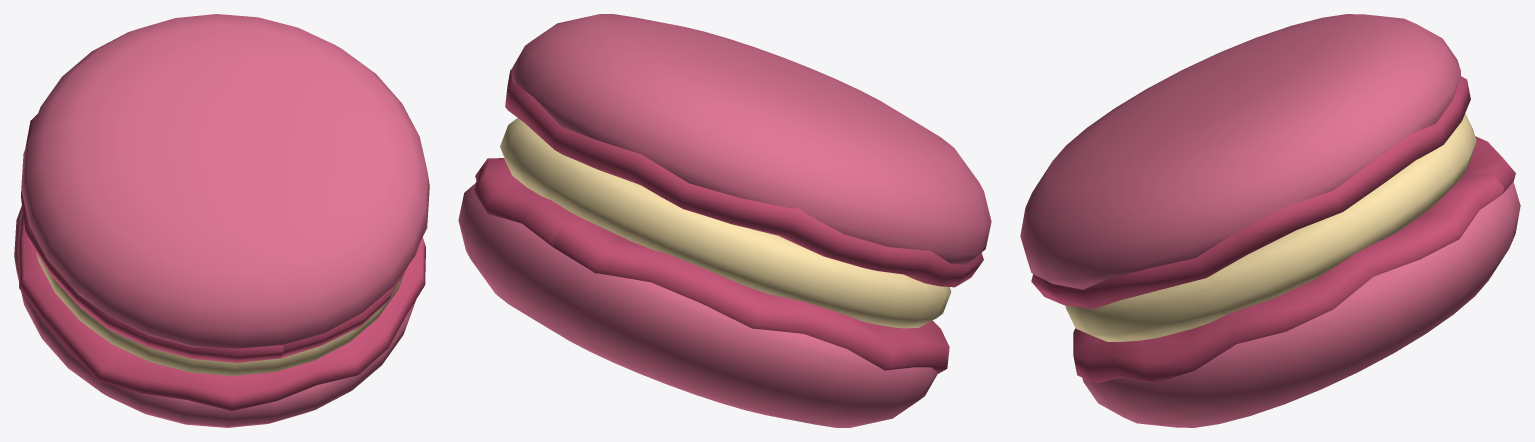
File: macaron.glb
3 views of the same model, side by side, from view 1: azimuth 30°, elevation 25°; view 2: azimuth 150°, elevation 25°; view 3: azimuth 270°, elevation 25° (orthographic). The views are drawn at different scales.
Parts seen in each view (by area): view 1: macaron; view 2: macaron; view 3: macaron.
Part boxes in pixels (bbox=[...]): macaron: bbox=[14, 14, 429, 427]; macaron: bbox=[458, 14, 991, 427]; macaron: bbox=[1020, 14, 1520, 427].
Size of the model in its own units: 0.9557 by 0.7935 by 0.9716.
